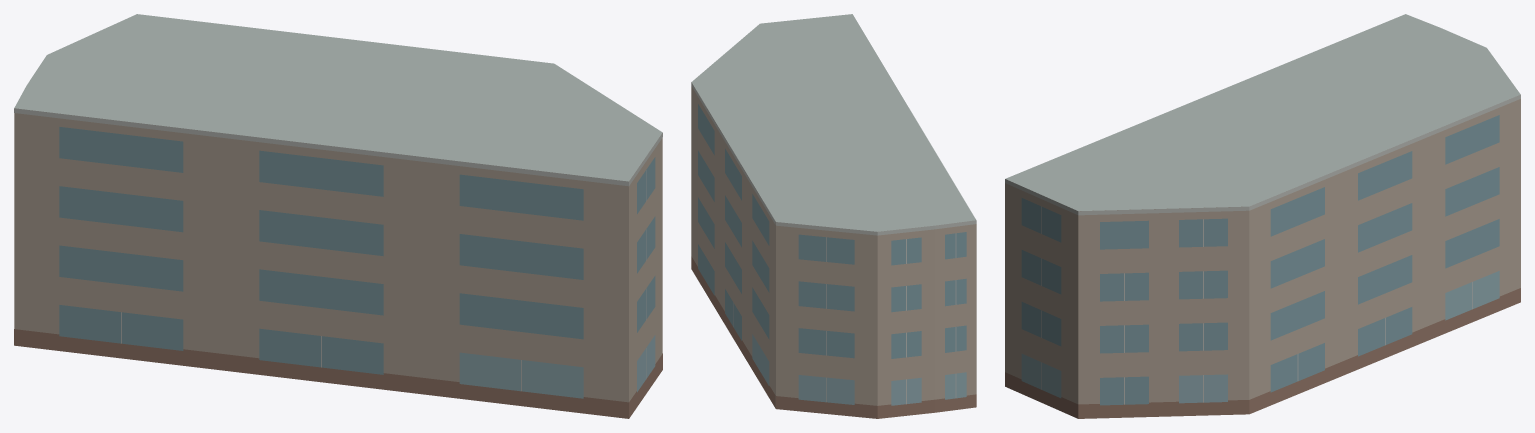
Rendered from survey-upis-32897515.glb.
3 renders of one model, left to right at view 1: azimuth 30°, elevation 25°; view 2: azimuth 150°, elevation 25°; view 3: azimuth 270°, elevation 25°, orthographic. The views are drawn at different scales.
Visible parts, largest first — view 1: survey-upis-32897515.tmp; view 2: survey-upis-32897515.tmp; view 3: survey-upis-32897515.tmp.
Boxes of the visible parts, left/top/right/bottom form: survey-upis-32897515.tmp: left=14, top=14, right=662, bottom=418; survey-upis-32897515.tmp: left=691, top=14, right=976, bottom=418; survey-upis-32897515.tmp: left=1005, top=14, right=1520, bottom=418.
Bounding box in the file's own units: 24.84 × 12.2 × 27.46.
